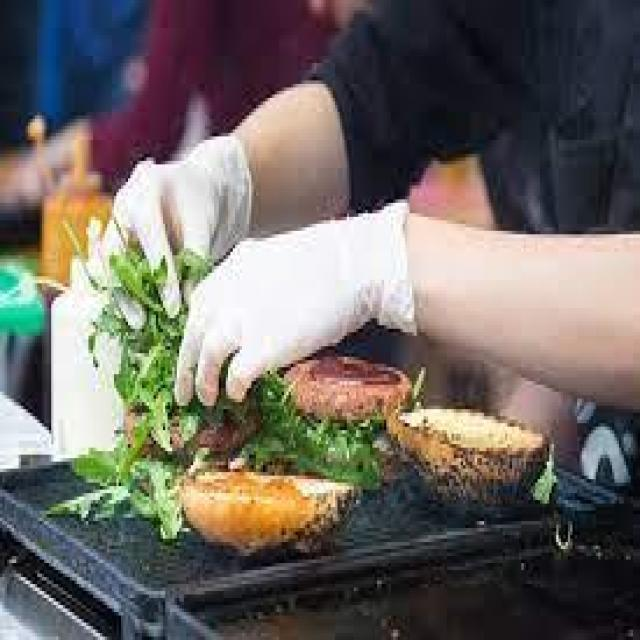apron: (182, 213, 410, 403), (101, 135, 260, 315)
